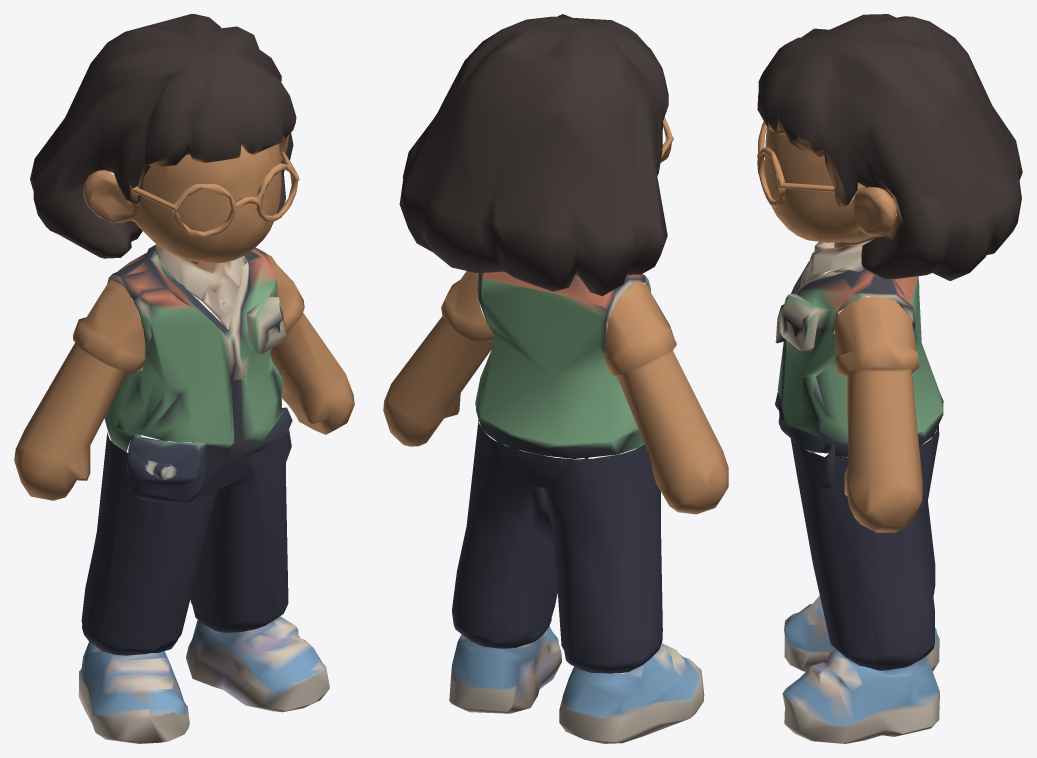
3 views of the same model, side by side, from view 1: azimuth 30°, elevation 25°; view 2: azimuth 150°, elevation 25°; view 3: azimuth 270°, elevation 25° (orthographic).
Visible parts, largest first — view 1: hair, bottom, top, head, hand_r, shoe_l, shoe_r, hand_l, sleeve_r; view 2: hair, bottom, top, hand_r, hand_l, shoe_r, shoe_l; view 3: hair, bottom, hand_l, top, shoe_l, head, shoe_r.
Boxes of the visible parts, bbox=[...] form: hair: bbox=[30, 14, 296, 258]; bottom: bbox=[81, 429, 291, 655]; top: bbox=[104, 244, 292, 463]; head: bbox=[83, 143, 299, 271]; hand_r: bbox=[14, 280, 145, 500]; shoe_l: bbox=[186, 616, 329, 712]; shoe_r: bbox=[78, 641, 189, 743]; hand_l: bbox=[258, 248, 354, 434]; sleeve_r: bbox=[126, 434, 206, 502]; hair: bbox=[399, 14, 668, 296]; bottom: bbox=[452, 420, 662, 673]; top: bbox=[475, 271, 651, 458]; hand_r: bbox=[603, 281, 728, 514]; hand_l: bbox=[383, 271, 494, 446]; shoe_r: bbox=[559, 643, 704, 743]; shoe_l: bbox=[449, 626, 561, 713]; hair: bbox=[757, 14, 1022, 280]; bottom: bbox=[790, 425, 939, 670]; hand_l: bbox=[834, 296, 922, 532]; top: bbox=[775, 236, 943, 457]; shoe_l: bbox=[782, 650, 939, 743]; head: bbox=[757, 121, 896, 247]; shoe_r: bbox=[784, 595, 939, 671].
Size of the model in its own units: 0.5271 by 1.03 by 0.3712.
